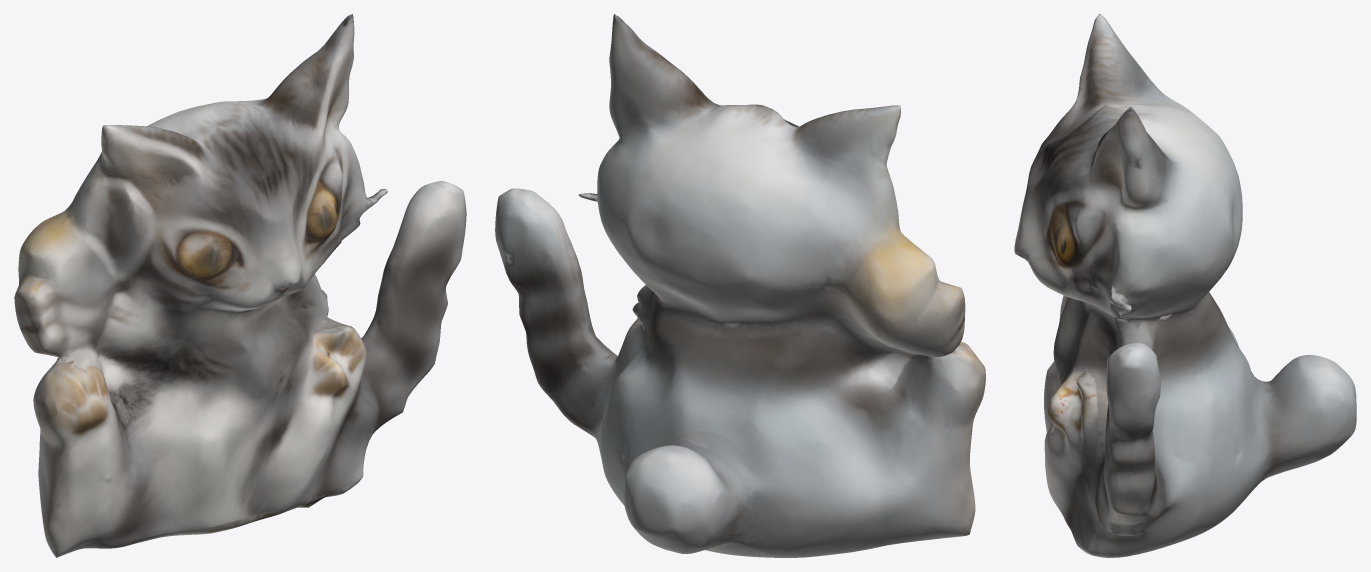
Rendered from dayan01.glb.
3 renders of one model, left to right at view 1: azimuth 30°, elevation 25°; view 2: azimuth 150°, elevation 25°; view 3: azimuth 270°, elevation 25°, orthographic. The views are drawn at different scales.
Bounding box in the file's own units: 1.2 × 1.19 × 0.7915.
1 material, 1 textured.
